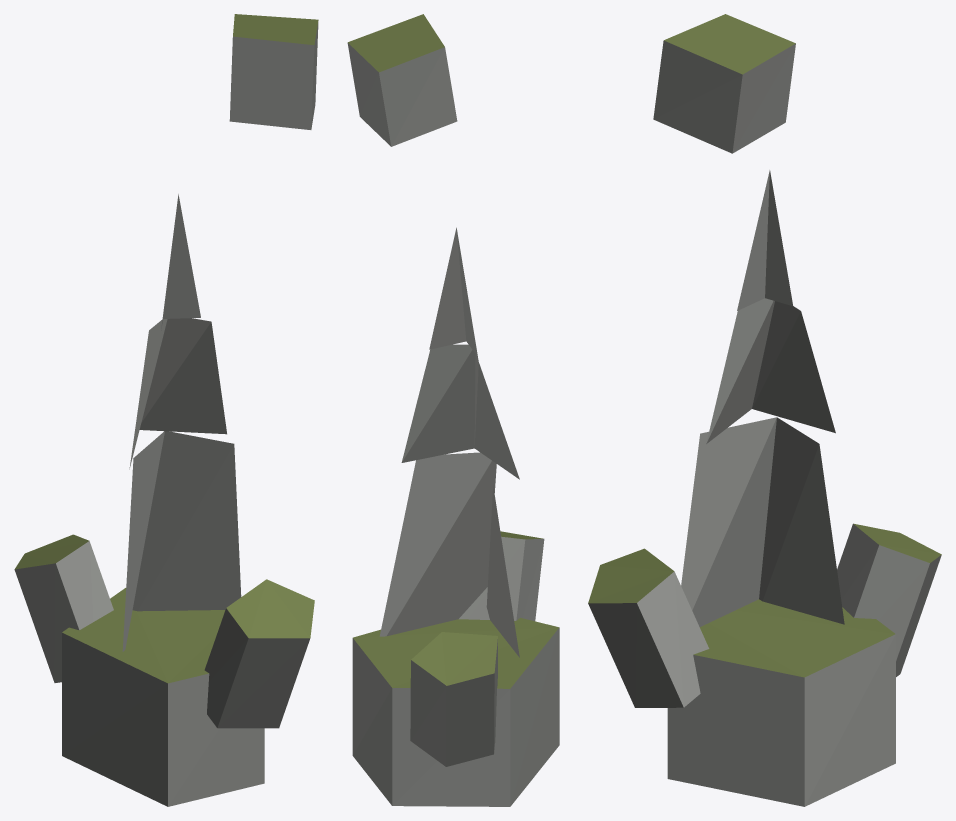
File: rock.spire__stacked__spring.glb
The picture shows the model from 3 angles, left to right: view 1: azimuth 30°, elevation 25°; view 2: azimuth 150°, elevation 25°; view 3: azimuth 270°, elevation 25°; orthographic projection. The views are drawn at different scales.
Visible parts, largest first — view 1: rock.spire; view 2: rock.spire; view 3: rock.spire.
Part boxes in pixels (x1,y1,x2,y2): rock.spire: (14,14,318,806); rock.spire: (347,14,559,806); rock.spire: (588,14,941,806).
Size of the model in its own units: 0.986 by 3 by 1.26.
